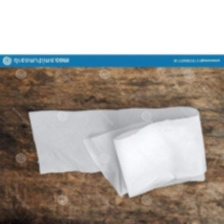tissue: (20, 101, 211, 201)
